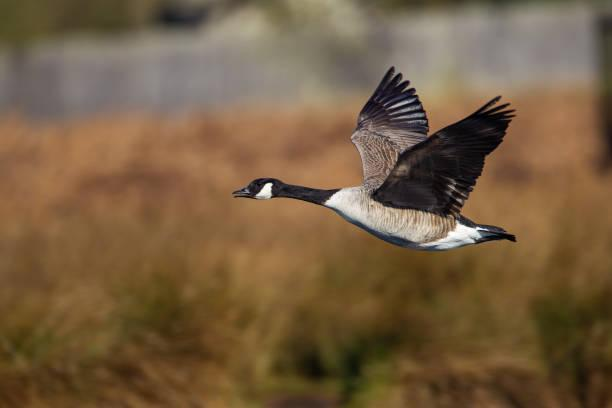Canadian-Goose: (224, 66, 523, 254)
